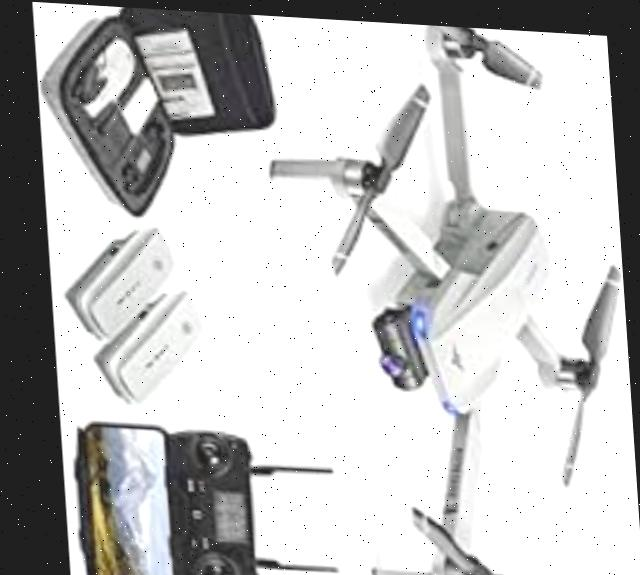drone: (248, 12, 637, 575)
